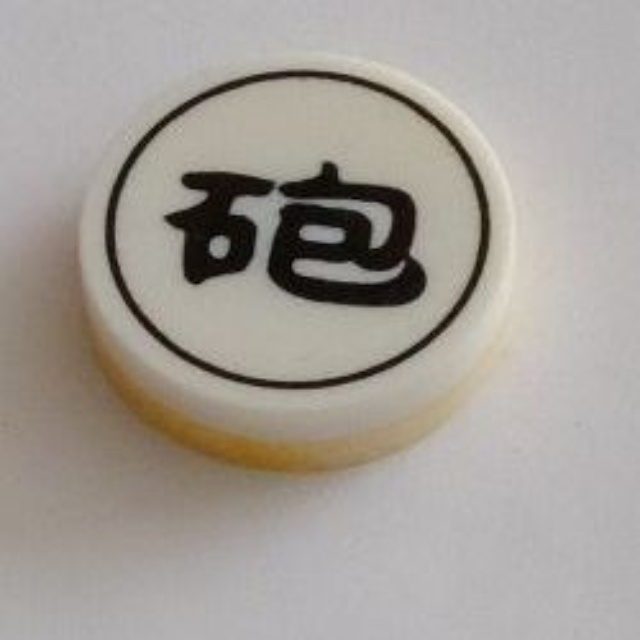black_phao: (74, 48, 525, 469)
